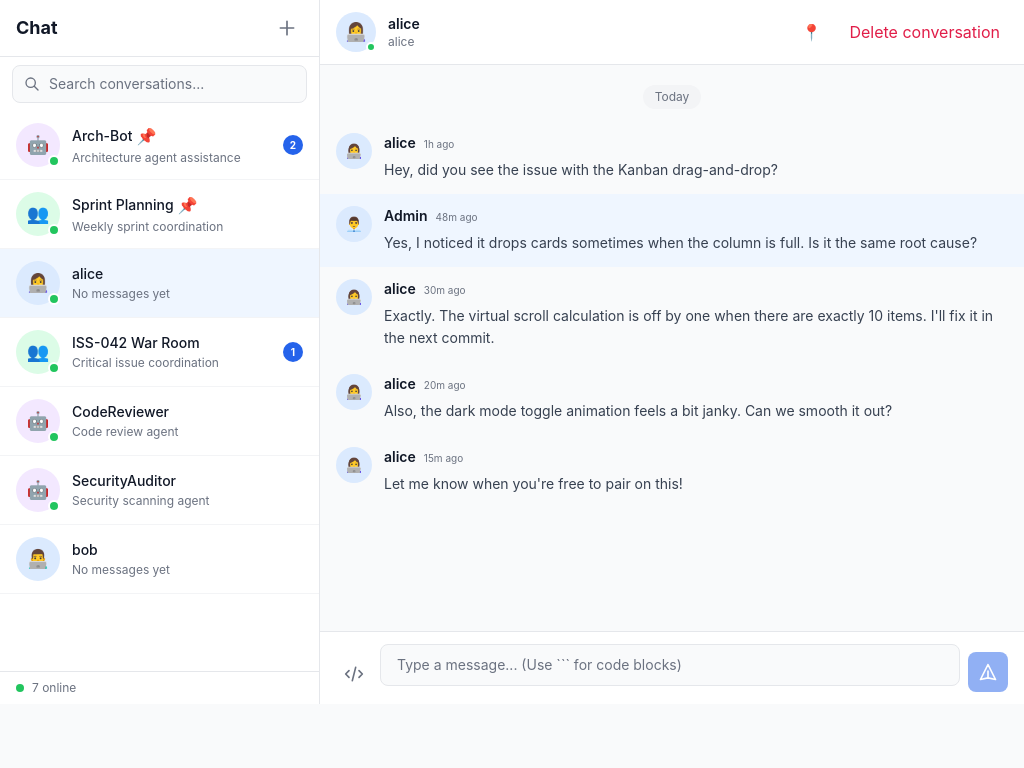
ChatView › shows a degraded-service message when conversation deletion returns 503
Click the button with aria-label "Delete conversation".
click(925, 32)  # box [841,12,1008,52]
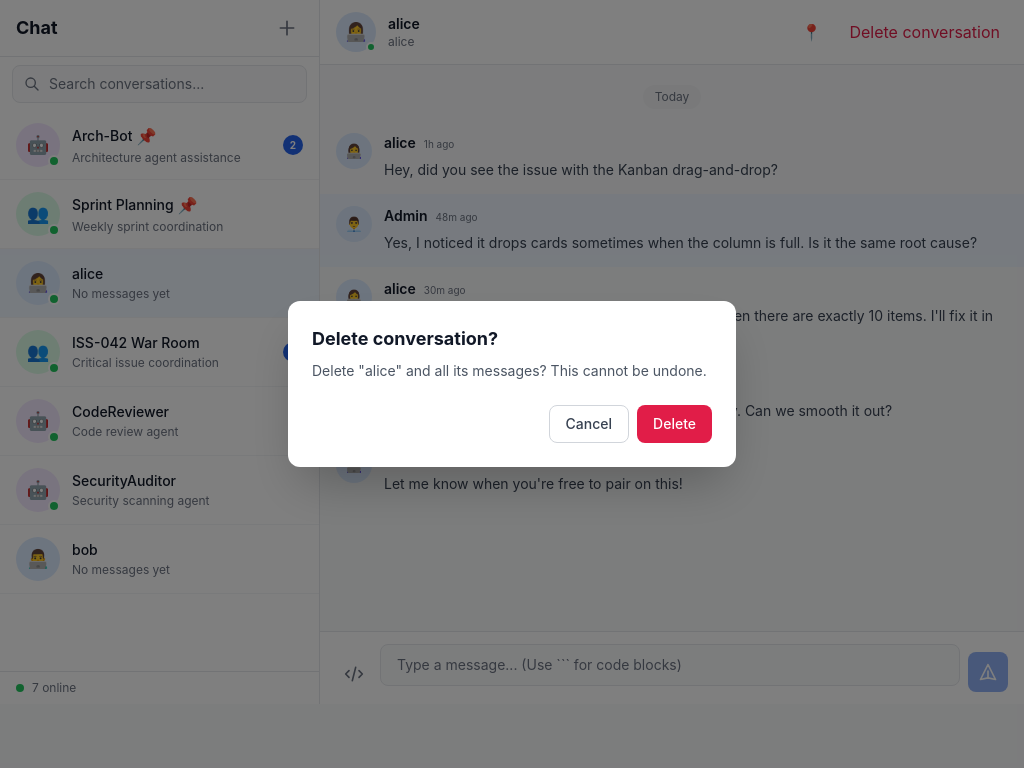
Click the button "Delete".
click(675, 424)  # box [637,405,712,443]
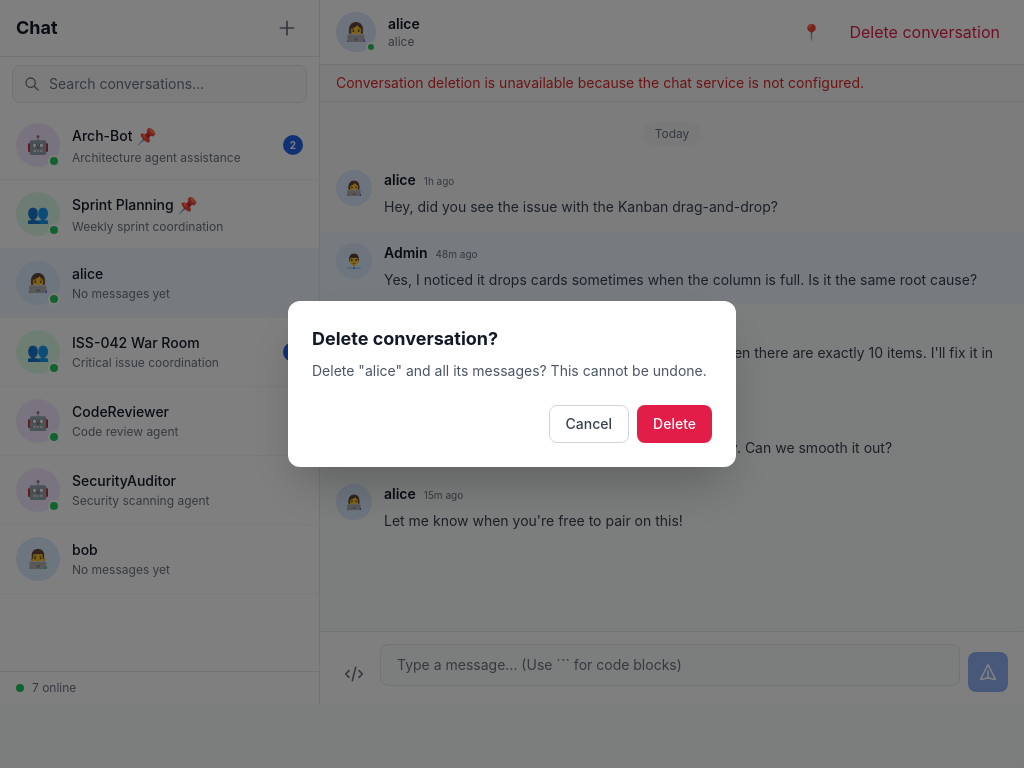
Expected: the text "Conversation deletion is unavailable because the chat service is not configured." is shown, [320,65,1023,102]
